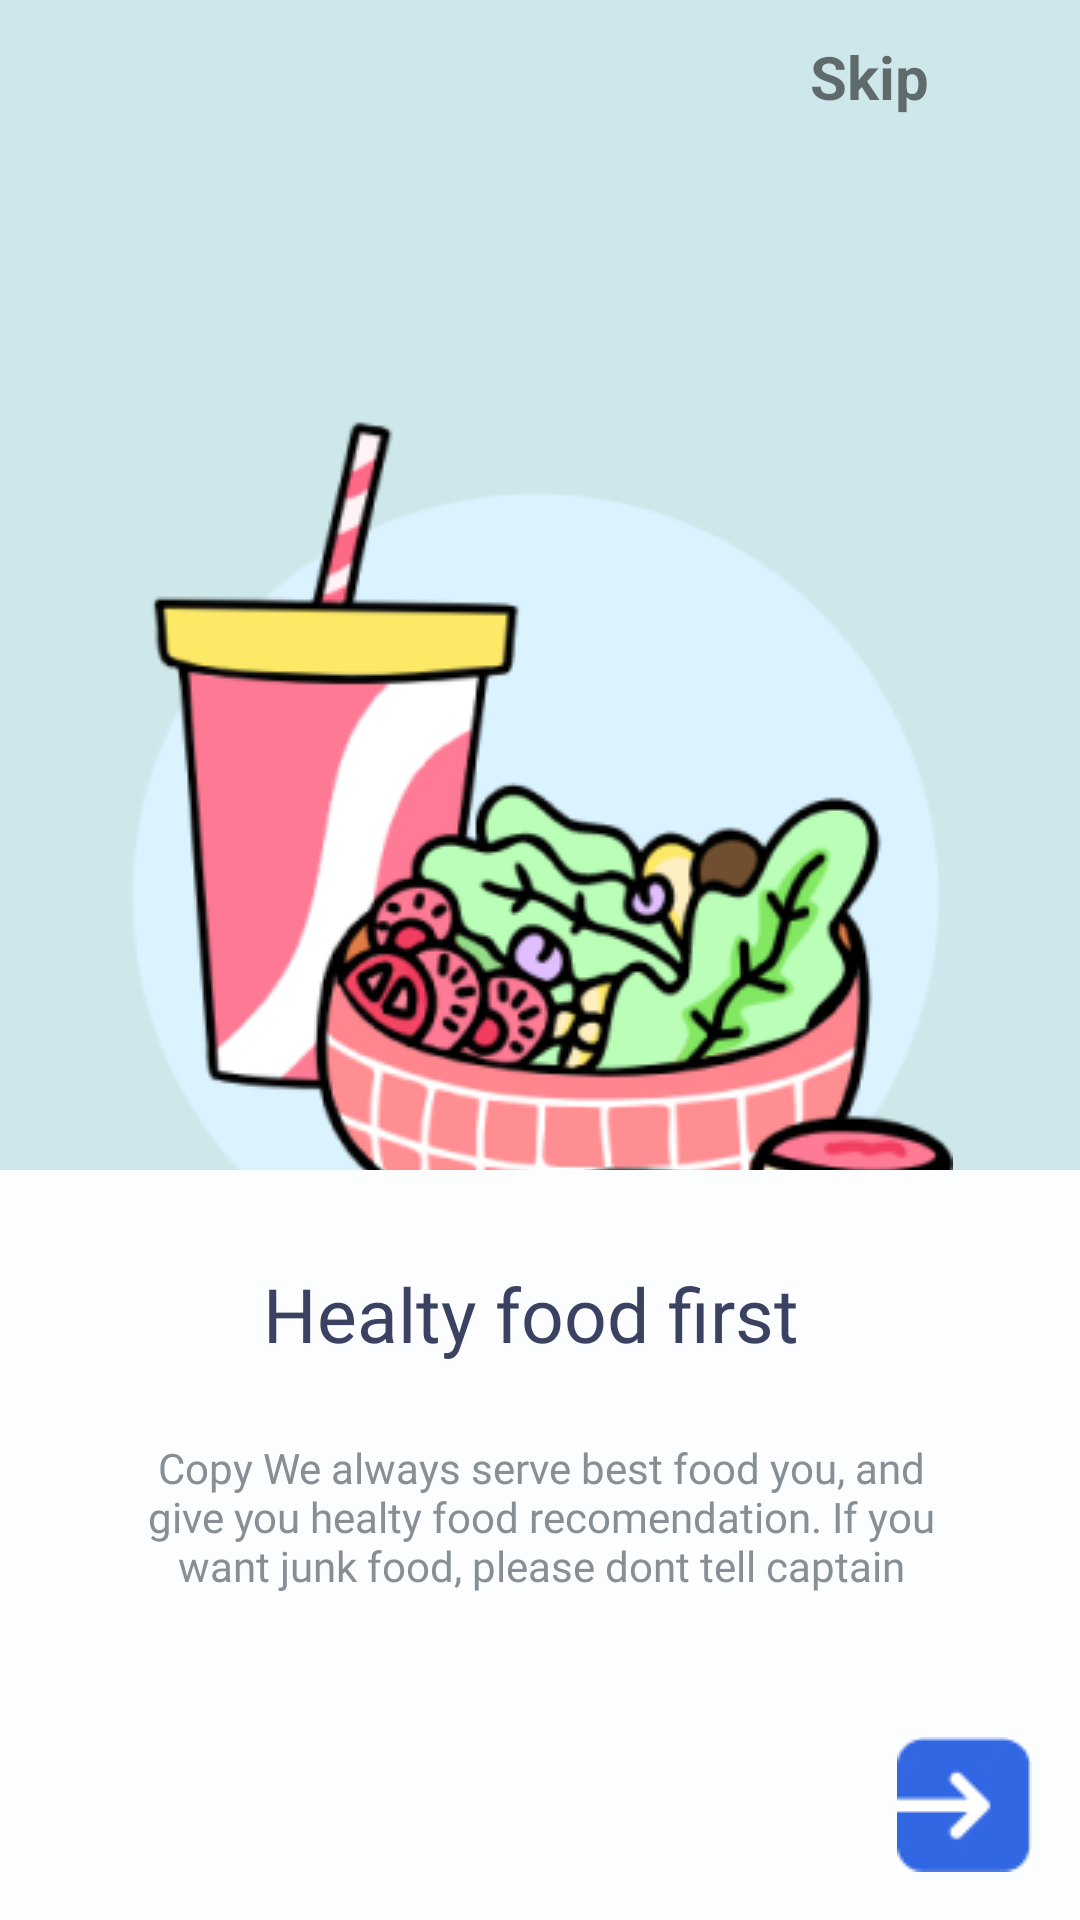

Icon bounding boxes for this 1080px x 1920px phone screenshot, format (x1, y1, x2, y2):
next: (897, 1737, 1030, 1872)
